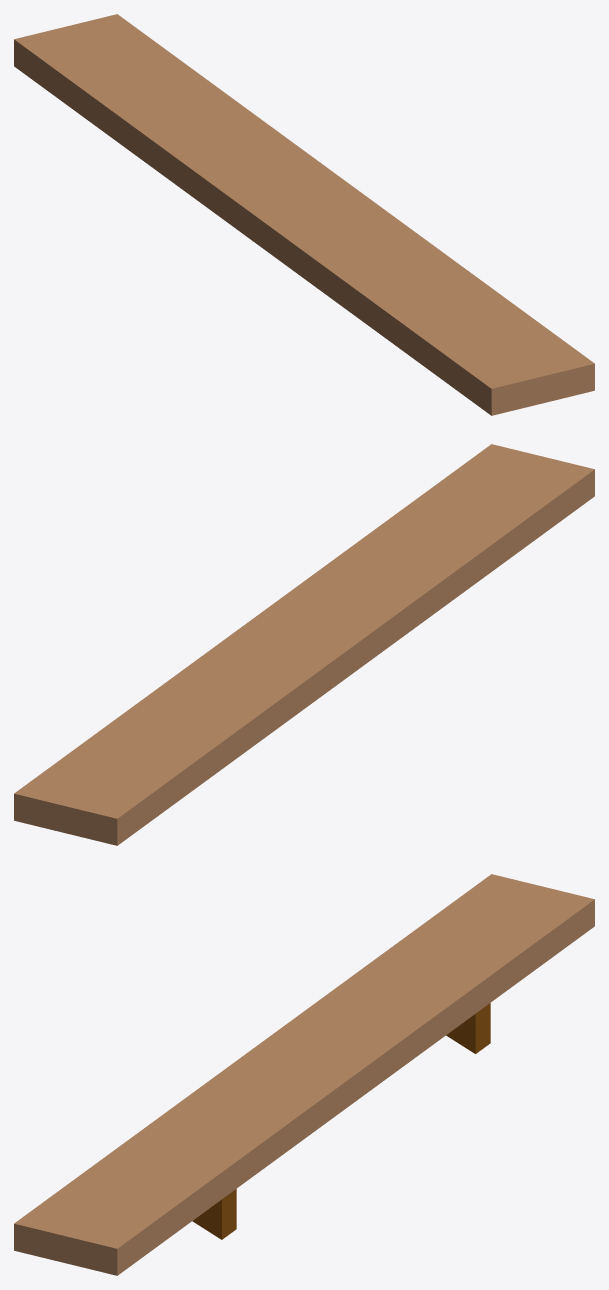
File: shelf.glb
3 views of the same model, one above another, from view 1: azimuth 30°, elevation 25°; view 2: azimuth 150°, elevation 25°; view 3: azimuth 330°, elevation 25° (orthographic).
Visible parts, largest first — view 1: Shelf; view 2: Shelf; view 3: Shelf.
Part boxes in pixels (bbox=[...]): Shelf: bbox=[14, 14, 594, 415]; Shelf: bbox=[14, 444, 594, 845]; Shelf: bbox=[14, 874, 594, 1275].
Size of the model in its own units: 4 by 2.5 by 32.
